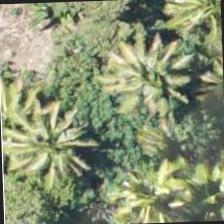Kelapa_Sawit: (86, 33, 178, 126), (7, 98, 100, 190), (108, 157, 201, 223), (174, 151, 223, 223)
